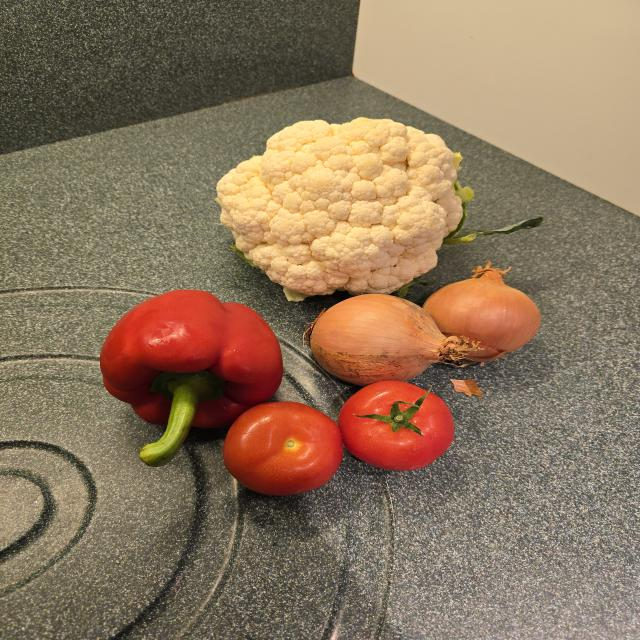Bell Pepper: (100, 290, 282, 467)
Cauliflower: (217, 117, 474, 301)
Onion: (310, 294, 445, 385), (423, 262, 541, 361)
Tomato: (223, 402, 342, 495), (338, 381, 454, 471)
